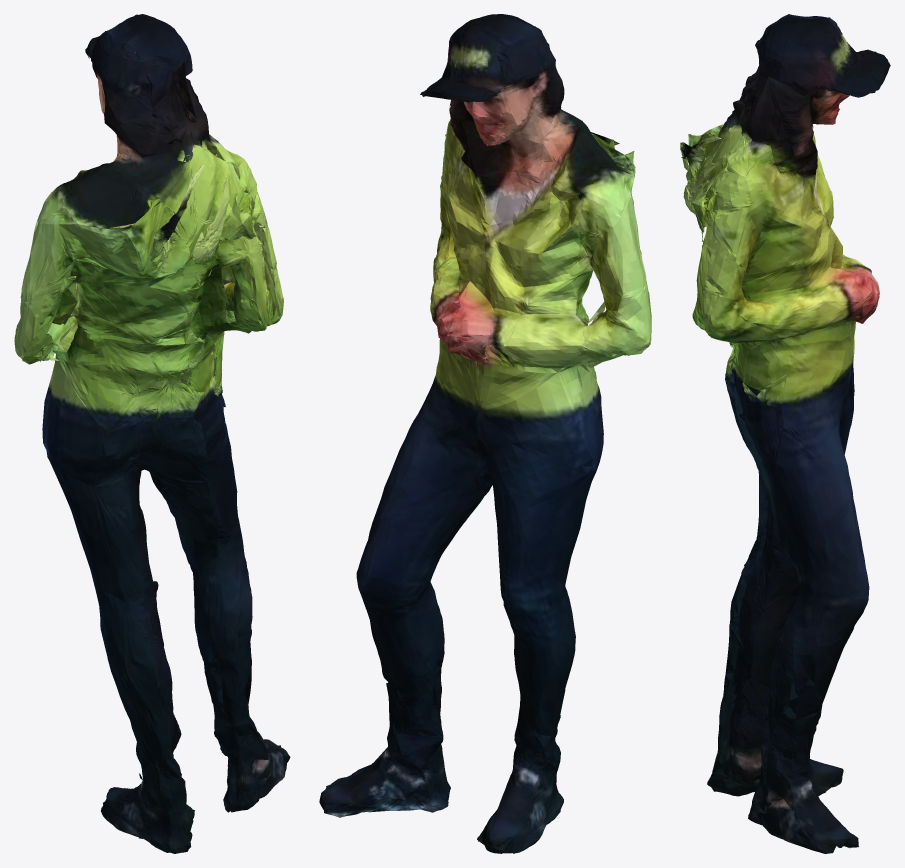
3 renders of one model, left to right at view 1: azimuth 30°, elevation 25°; view 2: azimuth 150°, elevation 25°; view 3: azimuth 270°, elevation 25°, orthographic. The views are drawn at different scales.
Parts seen in each view (by area): view 1: dec_0016; view 2: dec_0016; view 3: dec_0016.
Boxes of the visible parts, x1=… form: dec_0016: x1=14, y1=14, x2=290, y2=853; dec_0016: x1=319, y1=14, x2=651, y2=853; dec_0016: x1=680, y1=14, x2=890, y2=853.
Size of the model in its own units: 0.6824 by 1.76 by 0.4338.
Materials: 1 (1 with a texture image).
